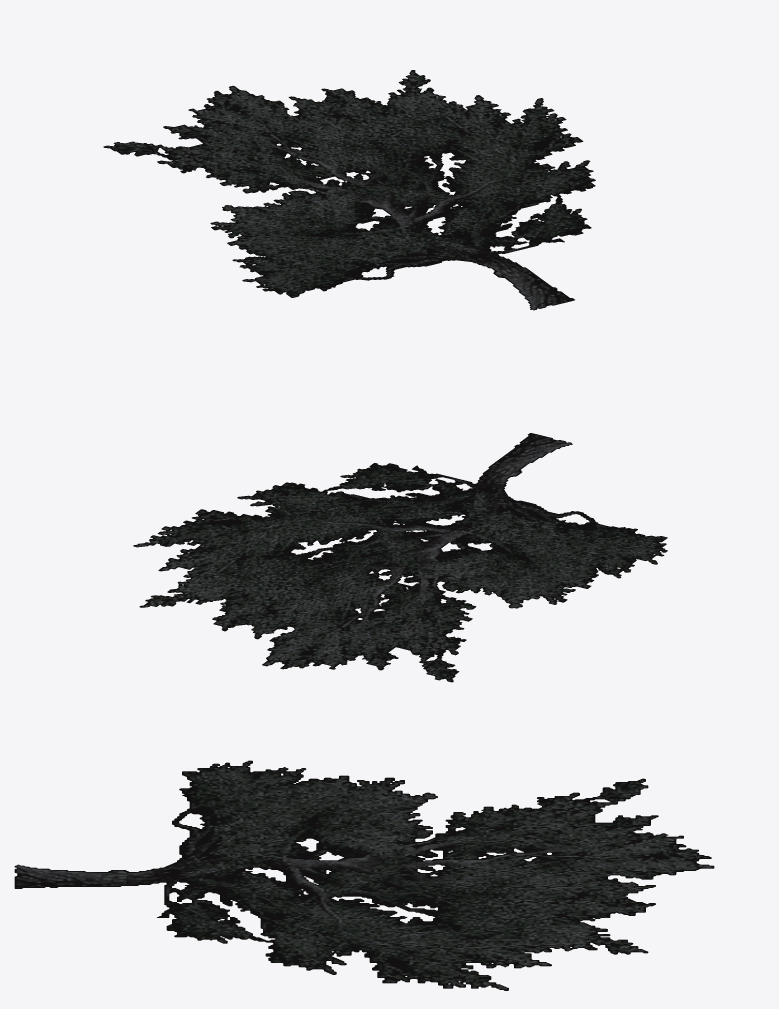
Rendered from SM_EC_Tree_Card_07.fbx.
3 views of the same model, one above another, from view 1: azimuth 30°, elevation 25°; view 2: azimuth 150°, elevation 25°; view 3: azimuth 270°, elevation 25° (orthographic). The views are drawn at different scales.
Parts seen in each view (by area): view 1: SM_EC_Tree_Card_07; view 2: SM_EC_Tree_Card_07; view 3: SM_EC_Tree_Card_07.
Part boxes in pixels (<box>): SM_EC_Tree_Card_07: <box>103,70,595,310</box>; SM_EC_Tree_Card_07: <box>133,433,667,682</box>; SM_EC_Tree_Card_07: <box>14,760,714,990</box>.
Size of the model in its own units: 3.45 by 4.63 by 0.
